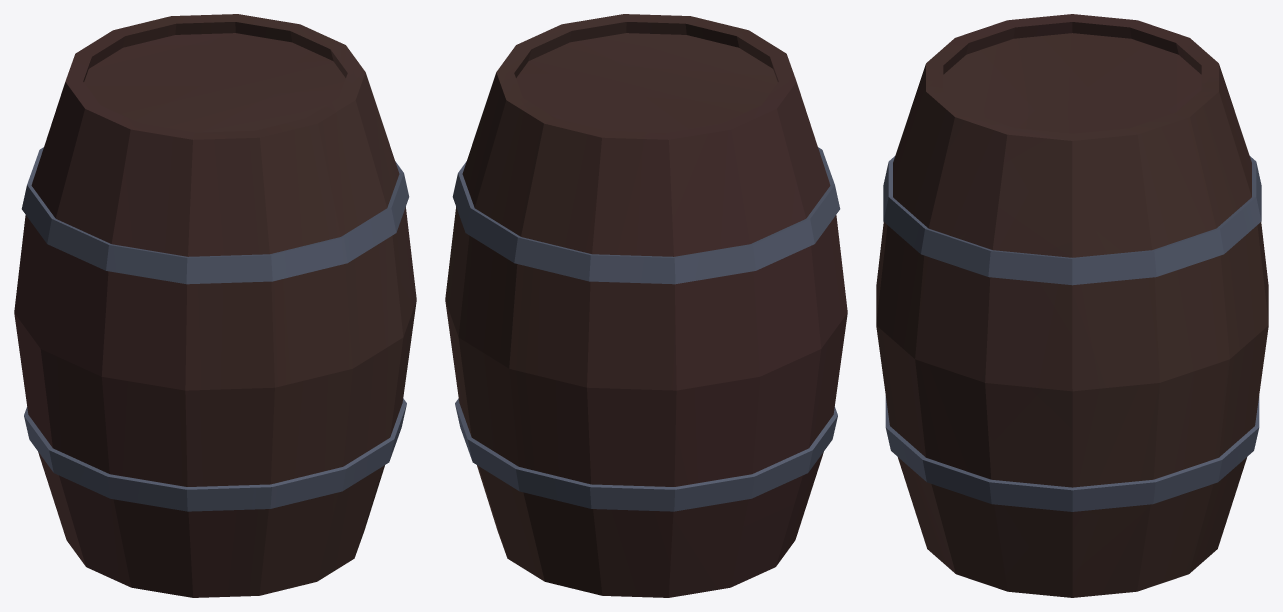
The model's file is bochka.fbx.
3 renders of one model, left to right at view 1: azimuth 30°, elevation 25°; view 2: azimuth 150°, elevation 25°; view 3: azimuth 270°, elevation 25°, orthographic.
Visible parts, largest first — view 1: generic_02; view 2: generic_02; view 3: generic_02.
Part boxes in pixels (<box>): generic_02: <box>14,14,416,597</box>; generic_02: <box>445,14,847,597</box>; generic_02: <box>876,14,1268,597</box>.
Size of the model in its own units: 195 by 244 by 190.
